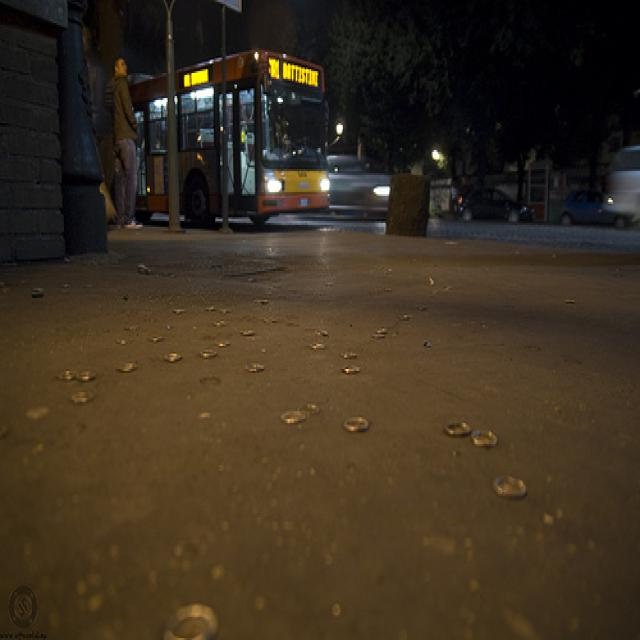Bus: (66, 43, 330, 264)
People: (103, 43, 149, 238)
car: (321, 155, 404, 226), (449, 156, 523, 233), (547, 169, 599, 247), (603, 127, 640, 236)
